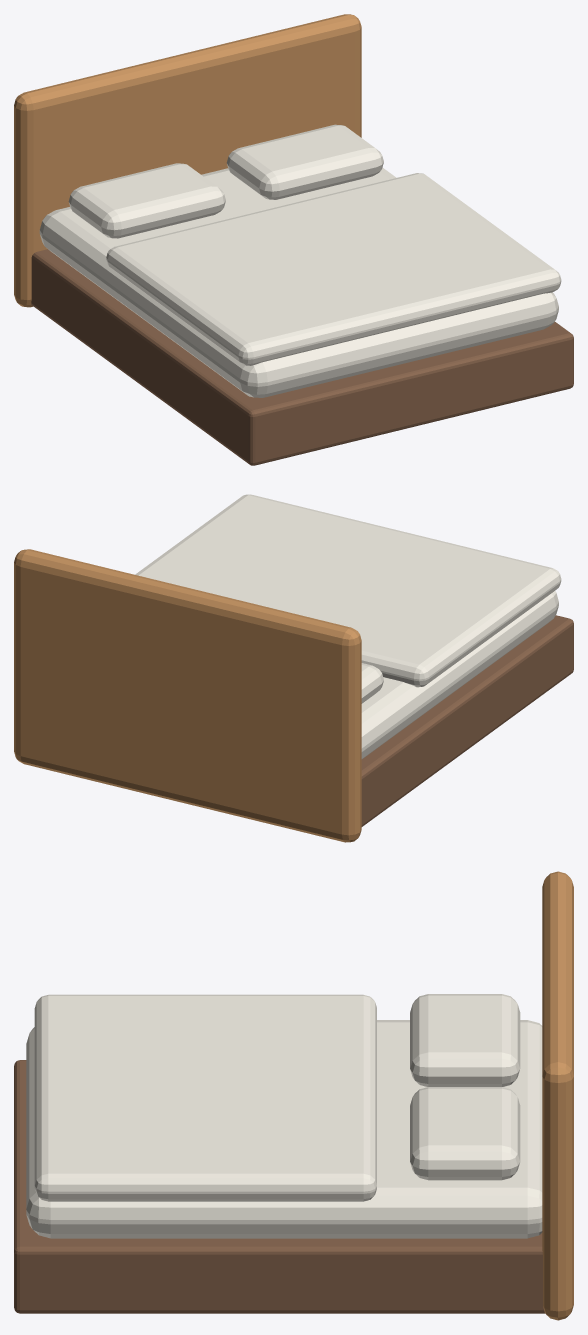
File: home_bed.glb
3 renders of one model, top to bottom at view 1: azimuth 30°, elevation 25°; view 2: azimuth 150°, elevation 25°; view 3: azimuth 270°, elevation 25°, orthographic. The views are drawn at different scales.
Parts seen in each view (by area): view 1: bed; view 2: bed; view 3: bed.
Part boxes in pixels (box(x1,y1,x2,y2)): bed: box(14, 14, 573, 465); bed: box(14, 494, 573, 842); bed: box(14, 871, 573, 1320).
Bounding box in the file's own units: 1.96 × 1.16 × 2.29.
